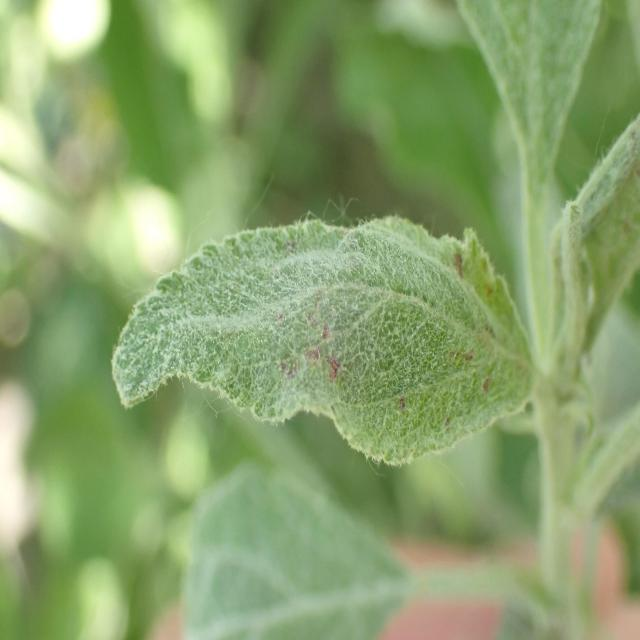Powdery_mildew: (95, 199, 541, 483), (534, 88, 640, 424), (458, 0, 606, 220)
